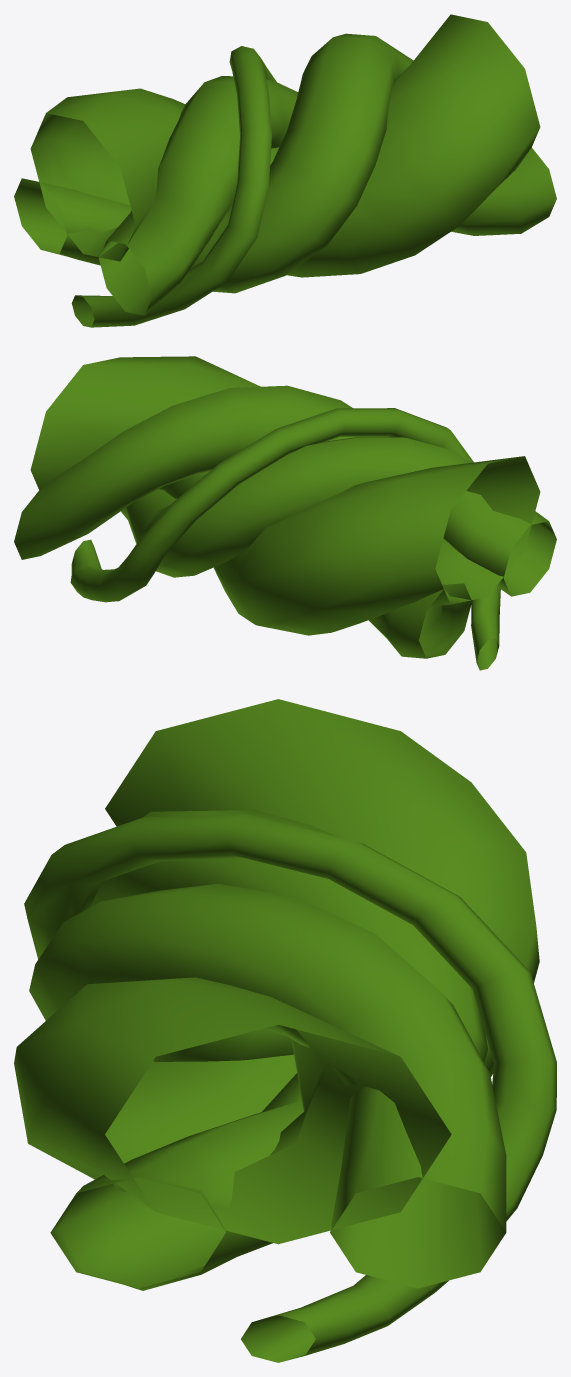
3 renders of one model, top to bottom at view 1: azimuth 30°, elevation 25°; view 2: azimuth 150°, elevation 25°; view 3: azimuth 270°, elevation 25°, orthographic. The views are drawn at different scales.
Visible parts, largest first — view 1: root_basic; view 2: root_basic; view 3: root_basic.
Boxes of the visible parts, left/top/right/bottom form: root_basic: left=14, top=14, right=556, bottom=327; root_basic: left=14, top=356, right=556, bottom=670; root_basic: left=14, top=699, right=556, bottom=1362.
Size of the model in its own units: 100 by 50.01 by 70.46.
